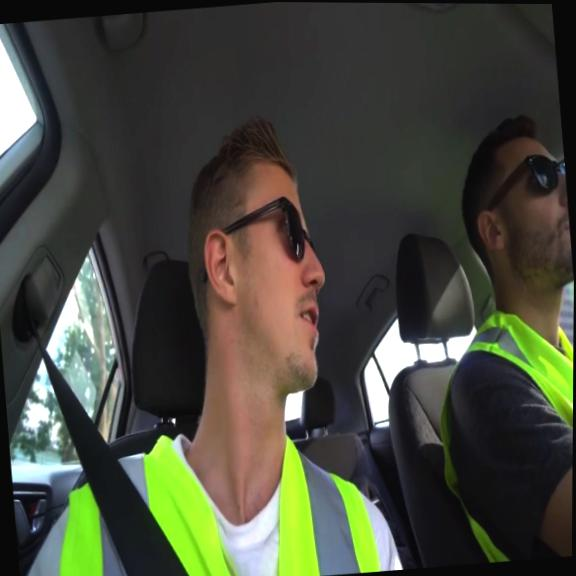safety_vest: (44, 411, 384, 576), (430, 302, 574, 566)
